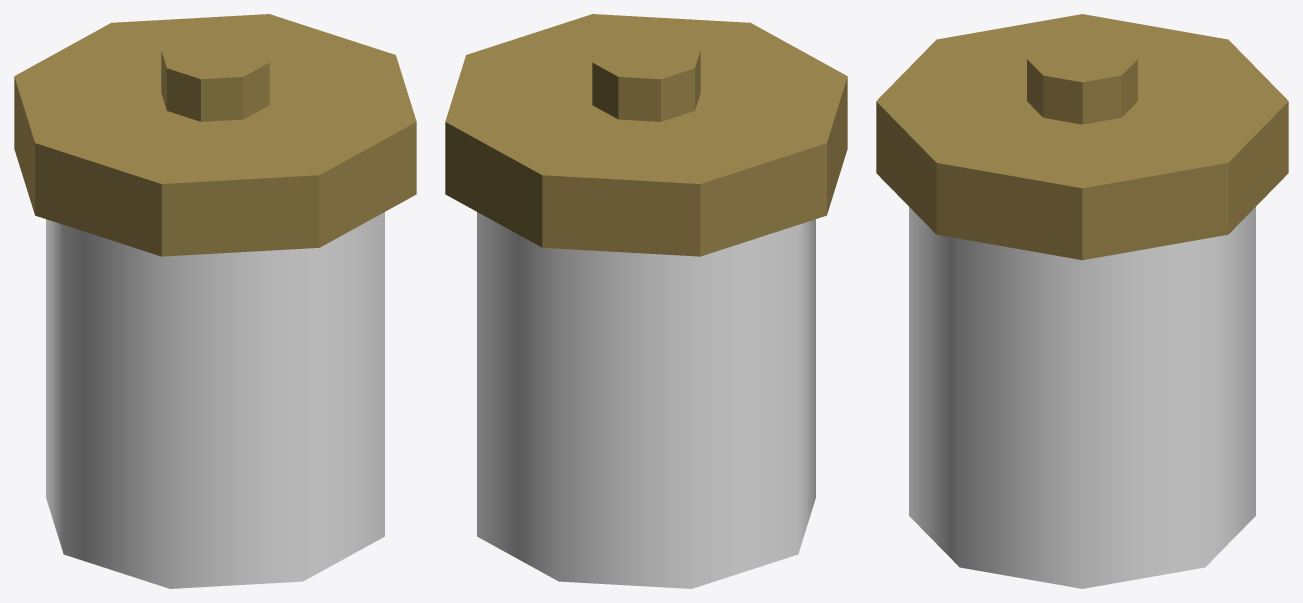
The model's file is Jar_Big.glb.
The picture shows the model from 3 angles, left to right: view 1: azimuth 30°, elevation 25°; view 2: azimuth 150°, elevation 25°; view 3: azimuth 270°, elevation 25°; orthographic projection.
Parts seen in each view (by area): view 1: Jar_Big.001; view 2: Jar_Big.001; view 3: Jar_Big.001.
Part boxes in pixels (x1=…): Jar_Big.001: x1=14, y1=14, x2=416, y2=588; Jar_Big.001: x1=445, y1=14, x2=847, y2=588; Jar_Big.001: x1=876, y1=14, x2=1288, y2=588.
Bounding box in the file's own units: 0.264 × 0.3223 × 0.264.
4 materials, 3 textured.
